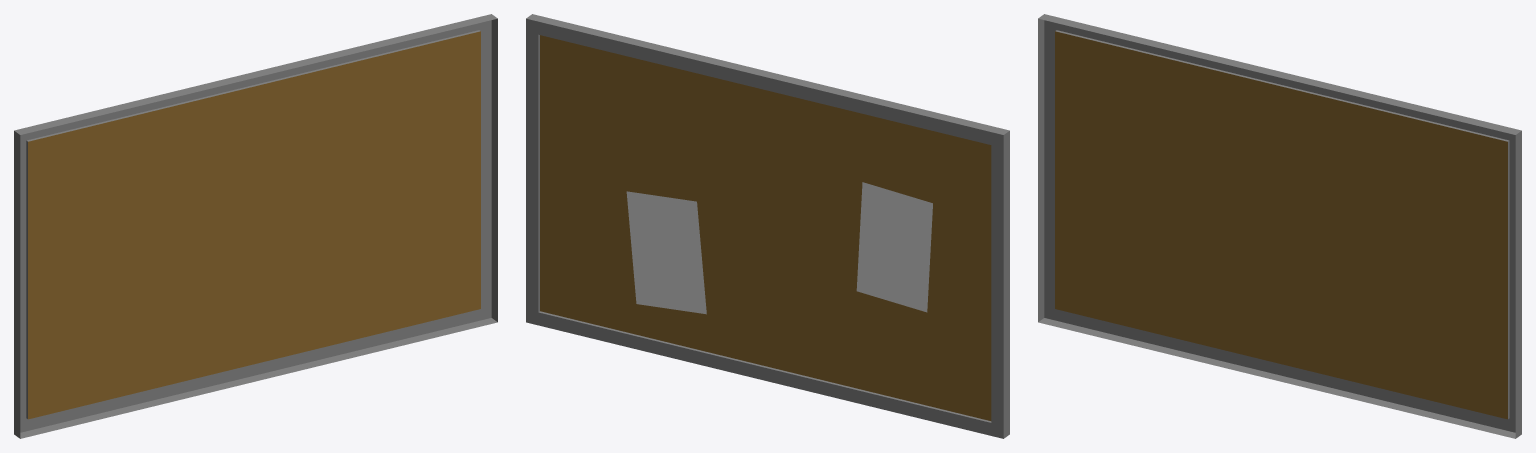
Rendered from Board.fbx.
3 views of the same model, side by side, from view 1: azimuth 30°, elevation 25°; view 2: azimuth 150°, elevation 25°; view 3: azimuth 330°, elevation 25° (orthographic).
Visible parts, largest first — view 1: Board; view 2: Board; view 3: Board.
Part boxes in pixels (box(x1,y1,x2,y2)): Board: box(14, 14, 497, 438); Board: box(526, 14, 1009, 438); Board: box(1038, 14, 1521, 438).
Bounding box in the file's own units: 2 × 1.22 × 0.0548.
